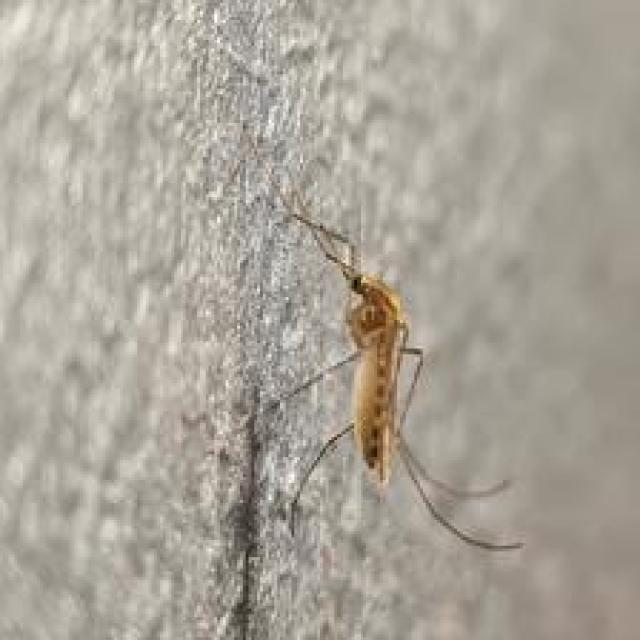Culex: (268, 204, 526, 553)
